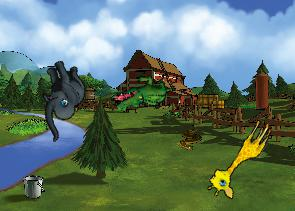crocodile: (108, 62, 177, 126)
elephant: (20, 54, 102, 142)
giraffe: (203, 111, 275, 204)
